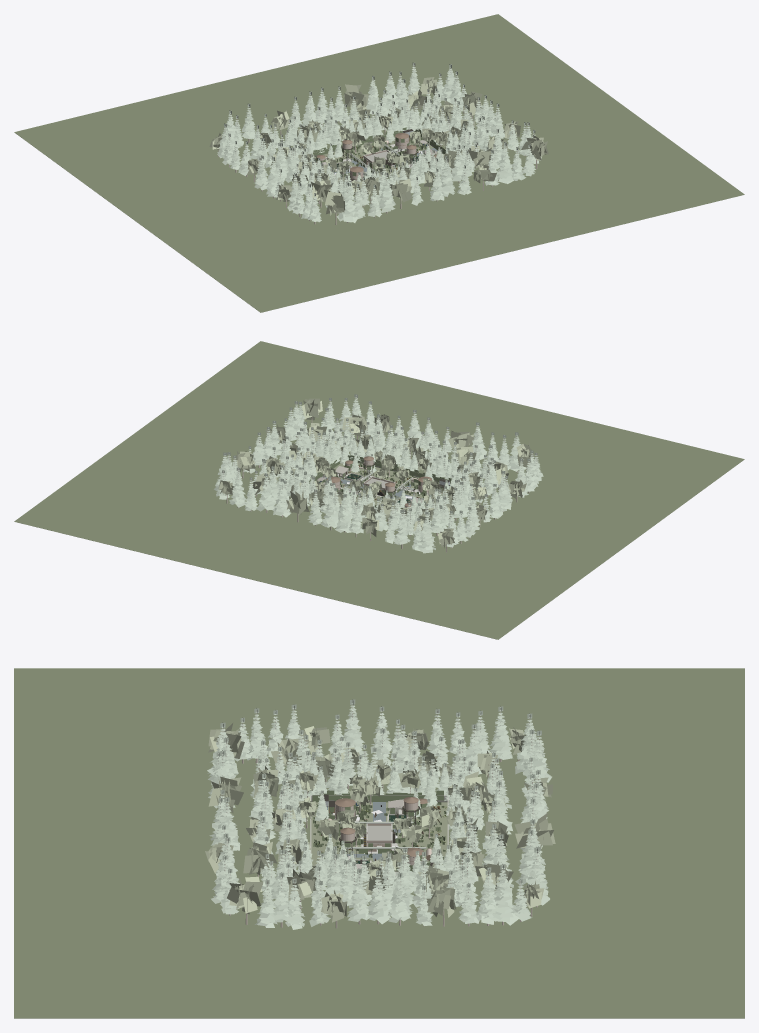
Rendered from overgrowth.glb.
3 views of the same model, one above another, from view 1: azimuth 30°, elevation 25°; view 2: azimuth 150°, elevation 25°; view 3: azimuth 270°, elevation 25° (orthographic). The views are drawn at different scales.
Visible parts, largest first — view 1: v_forest:outer forest floor, foliage:fir, foliage:leaf, cutout:greenery, v_bark:trunk, v_forest:ground; view 2: v_forest:outer forest floor, foliage:fir, foliage:leaf, cutout:greenery, v_bark:trunk, v_forest:ground; view 3: v_forest:outer forest floor, foliage:fir, foliage:leaf, cutout:greenery, v_forest:ground, v_bark:trunk, v_pad:pad.
Boxes of the visible parts, bbox=[...] form: v_forest:outer forest floor: bbox=[14, 14, 744, 312]; foliage:fir: bbox=[217, 62, 541, 222]; foliage:leaf: bbox=[209, 77, 548, 215]; cutout:greenery: bbox=[313, 127, 445, 178]; v_bark:trunk: bbox=[218, 64, 537, 224]; v_forest:ground: bbox=[313, 137, 437, 176]; v_forest:outer forest floor: bbox=[14, 341, 744, 639]; foliage:fir: bbox=[214, 394, 543, 553]; foliage:leaf: bbox=[218, 398, 534, 548]; cutout:greenery: bbox=[309, 455, 451, 513]; v_bark:trunk: bbox=[223, 395, 536, 552]; v_forest:ground: bbox=[316, 463, 442, 509]; v_forest:outer forest floor: bbox=[14, 668, 744, 1018]; foliage:fir: bbox=[207, 699, 551, 929]; foliage:leaf: bbox=[205, 723, 555, 922]; cutout:greenery: bbox=[312, 790, 446, 871]; v_forest:ground: bbox=[311, 802, 447, 865]; v_bark:trunk: bbox=[218, 705, 539, 928]; v_pad:pad: bbox=[310, 795, 448, 873].
Bounding box in the file's own units: 340 × 27.63 × 300.
50 materials, 20 textured.
